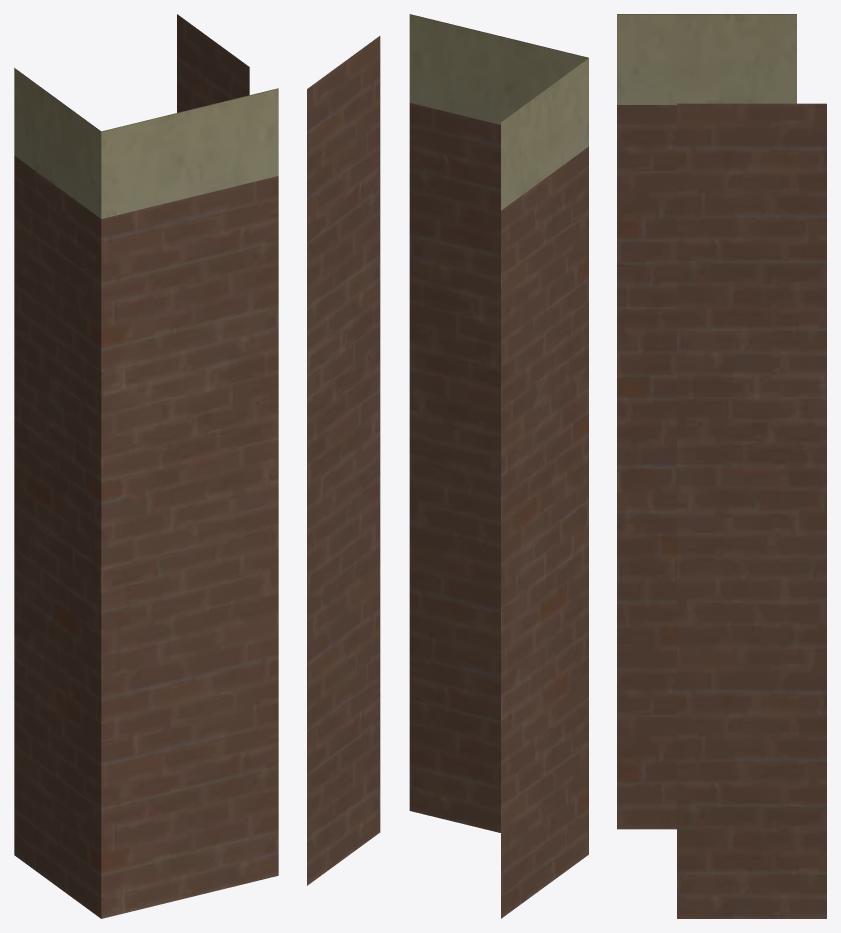
The model's file is Brick_TopTrim_90Angle_R.glb.
3 renders of one model, left to right at view 1: azimuth 30°, elevation 25°; view 2: azimuth 150°, elevation 25°; view 3: azimuth 270°, elevation 25°, orthographic. The views are drawn at different scales.
Visible parts, largest first — view 1: Brick_TopTrim_90Angle_R; view 2: Brick_TopTrim_90Angle_R; view 3: Brick_TopTrim_90Angle_R.
Part boxes in pixels (box(x1,y1,x2,y2)): Brick_TopTrim_90Angle_R: box(14, 14, 278, 918); Brick_TopTrim_90Angle_R: box(307, 14, 588, 918); Brick_TopTrim_90Angle_R: box(617, 14, 826, 918).
Size of the model in its own units: 0.7061 by 3 by 0.6999.
2 materials, 2 textured.
